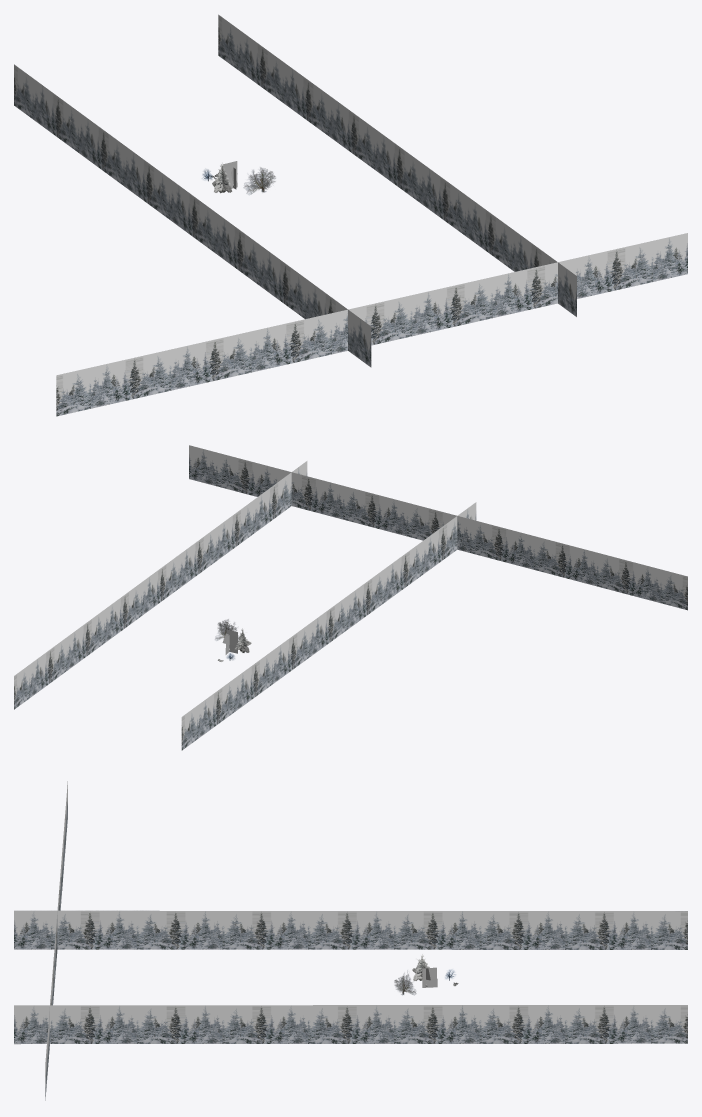
3 views of the same model, one above another, from view 1: azimuth 30°, elevation 25°; view 2: azimuth 150°, elevation 25°; view 3: azimuth 270°, elevation 25° (orthographic). The views are drawn at different scales.
Parts seen in each view (by area): view 1: treeline.001, treeline; view 2: treeline.001, treeline; view 3: treeline.001, treeline.
Part boxes in pixels (x1,y1,x2,y2): treeline.001: (56, 14, 687, 416); treeline: (14, 64, 371, 367); treeline.001: (14, 445, 687, 709); treeline: (181, 502, 476, 750); treeline.001: (14, 781, 687, 1100); treeline: (14, 910, 687, 949).
Bounding box in the file's own units: 469 × 31.06 × 469.
